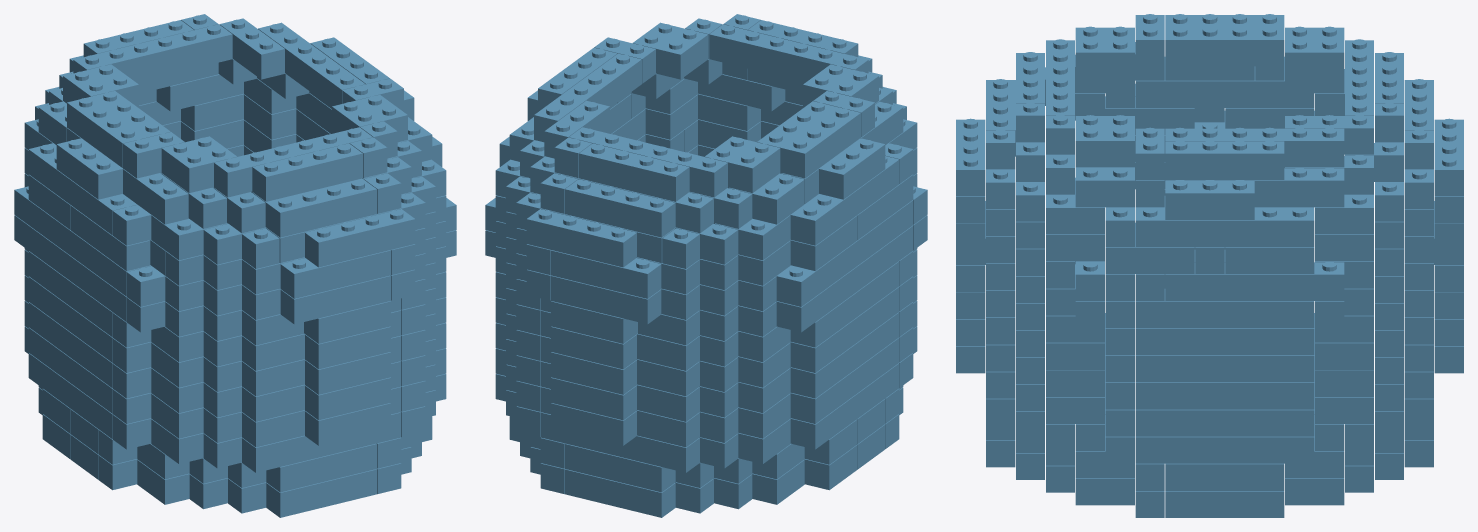
The model's file is 179_jar_L4.glb.
3 renders of one model, left to right at view 1: azimuth 30°, elevation 25°; view 2: azimuth 150°, elevation 25°; view 3: azimuth 270°, elevation 25°, orthographic. The views are drawn at different scales.
Size of the model in its own units: 12.98 by 13.13 by 16.98.
